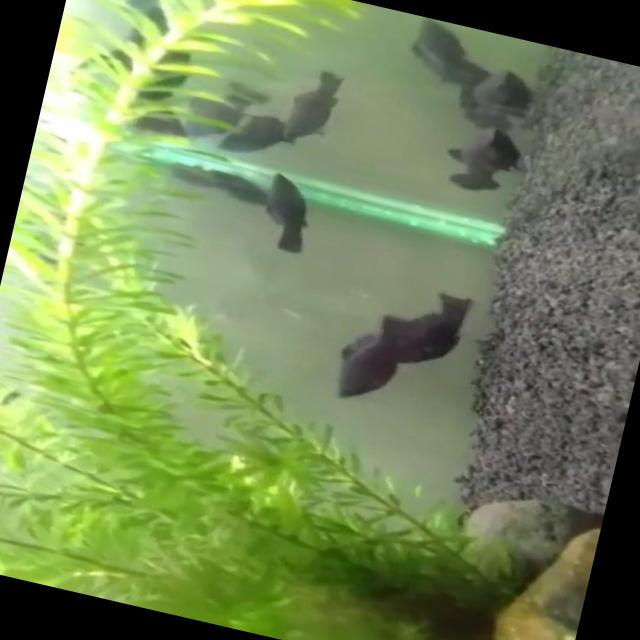PlatyFish: (242, 161, 332, 268), (437, 115, 537, 204)
